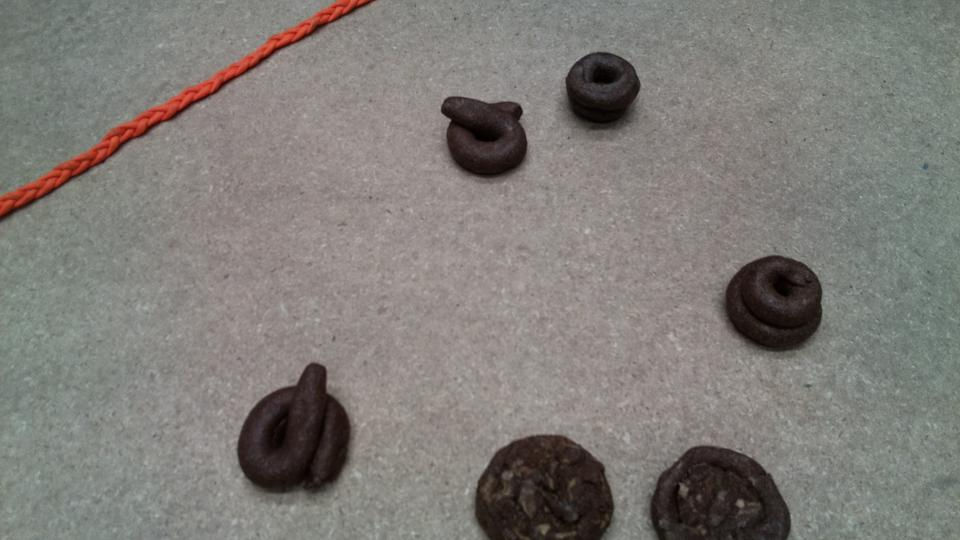poop: (233, 361, 353, 494), (472, 431, 617, 540), (646, 442, 794, 540), (723, 252, 826, 354), (439, 91, 531, 179), (563, 49, 641, 129)
rope: (1, 1, 365, 222)
